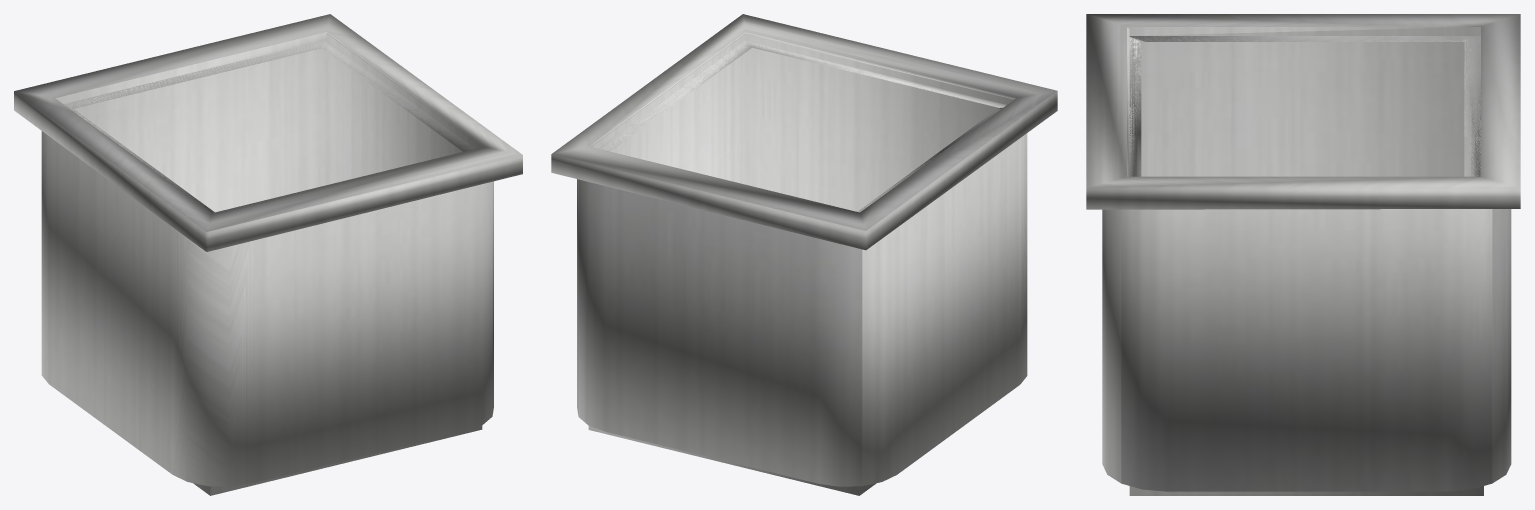
The model's file is bakje.glb.
3 views of the same model, side by side, from view 1: azimuth 30°, elevation 25°; view 2: azimuth 150°, elevation 25°; view 3: azimuth 270°, elevation 25° (orthographic). The views are drawn at different scales.
Visible parts, largest first — view 1: Cube, Cube.002; view 2: Cube, Cube.002; view 3: Cube, Cube.002.
Part boxes in pixels (<box>): Cube: <box>41,33,493,495</box>; Cube.002: <box>14,14,522,251</box>; Cube: <box>577,33,1027,495</box>; Cube.002: <box>551,14,1057,250</box>; Cube: <box>1102,28,1511,495</box>; Cube.002: <box>1086,14,1520,209</box>.
Bounding box in the file's own units: 1.38 × 1.19 × 1.46.
Materials: 2 (2 with a texture image).
